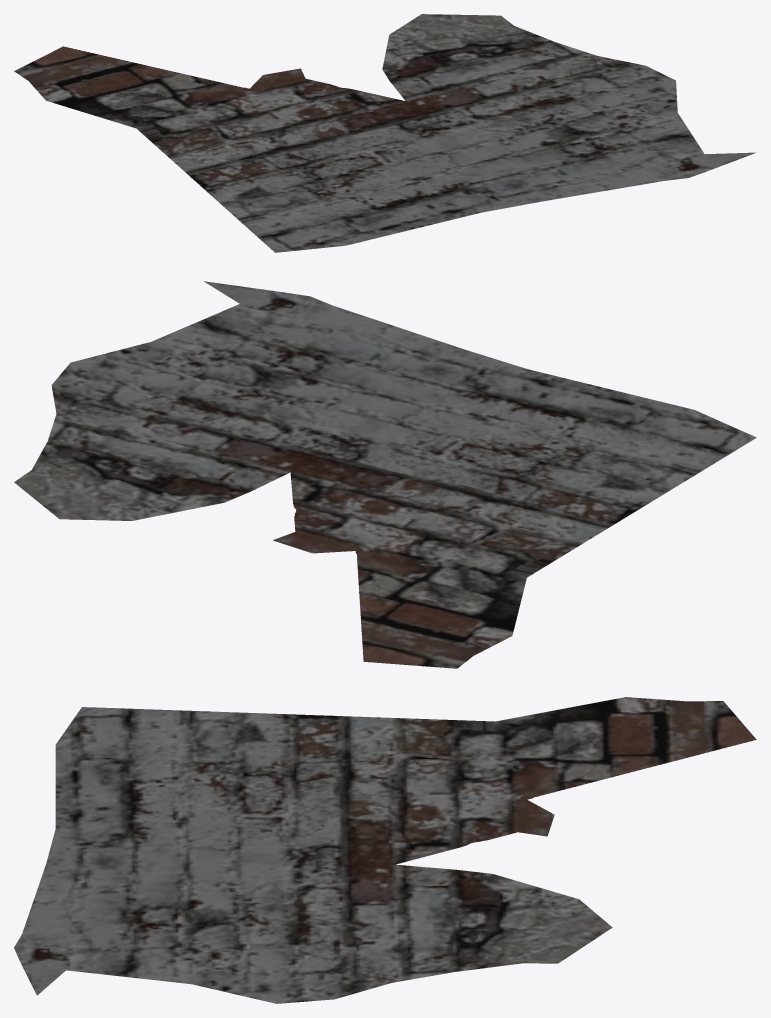
The model's file is brick destruction_2_2.fbx.
3 renders of one model, top to bottom at view 1: azimuth 30°, elevation 25°; view 2: azimuth 150°, elevation 25°; view 3: azimuth 270°, elevation 25°, orthographic. The views are drawn at different scales.
Visible parts, largest first — view 1: Circle; view 2: Circle; view 3: Circle.
Part boxes in pixels (x1,y1,x2,y2): Circle: [14, 14, 755, 252]; Circle: [14, 281, 756, 668]; Circle: [14, 697, 756, 1003].
Size of the model in its own units: 347 by 5.78e-05 by 355.
